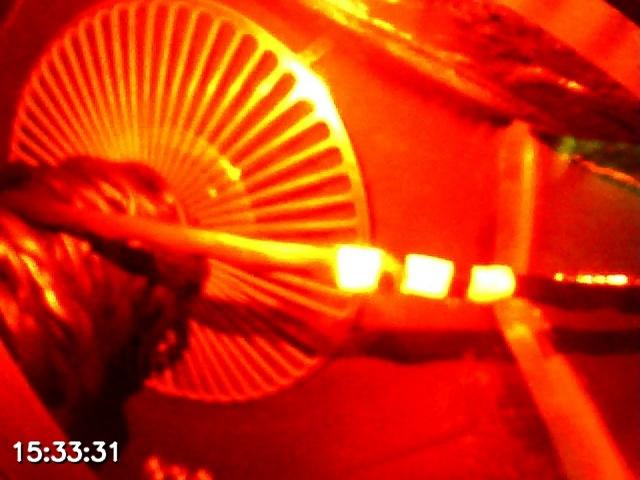white-dots: (334, 244, 517, 305)
